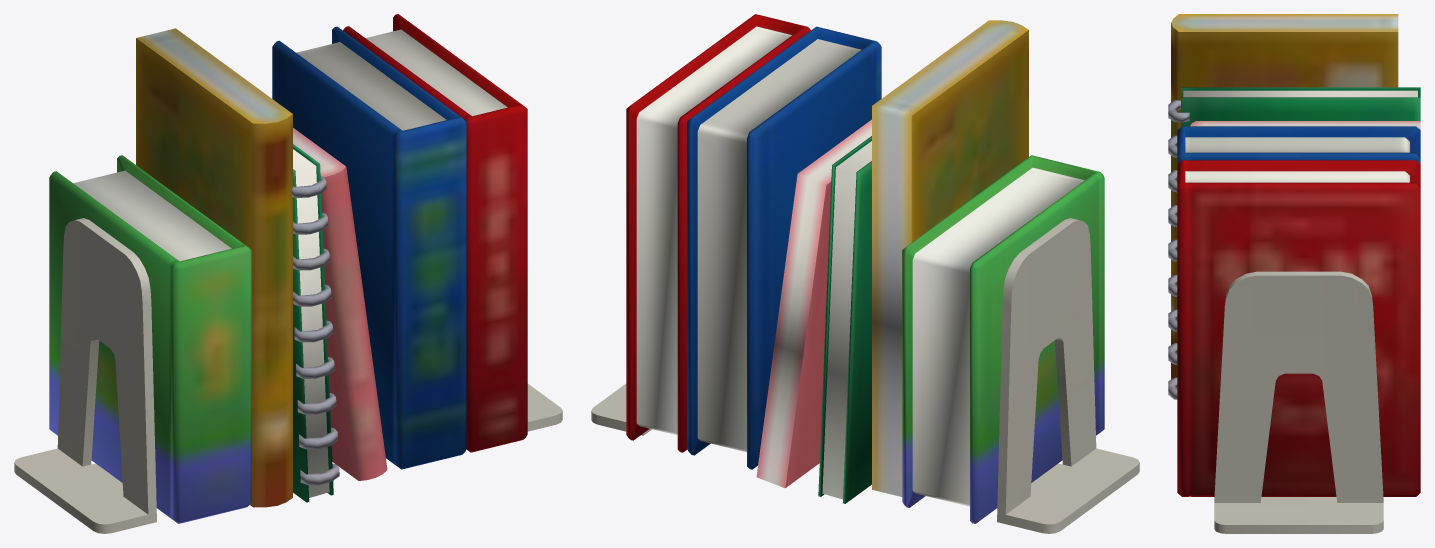
3 views of the same model, side by side, from view 1: azimuth 30°, elevation 25°; view 2: azimuth 150°, elevation 25°; view 3: azimuth 270°, elevation 25° (orthographic). The views are drawn at different scales.
Size of the model in its own units: 6.87 by 5.52 by 3.43.
1 material, 1 textured.
